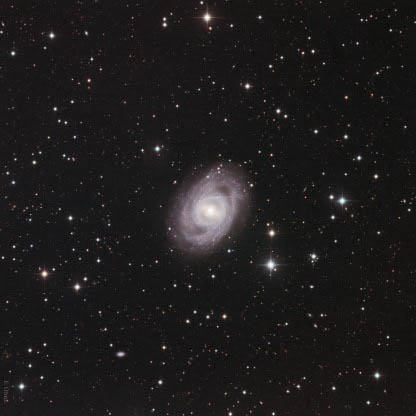Messier 95: (150, 158, 259, 262)
